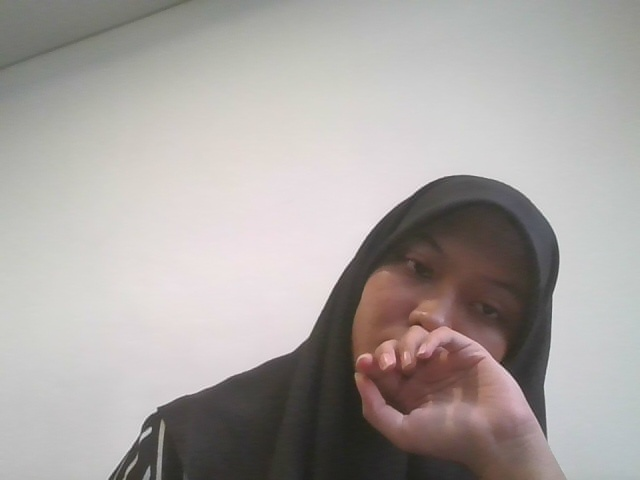Drowsy: (295, 122, 567, 479)
